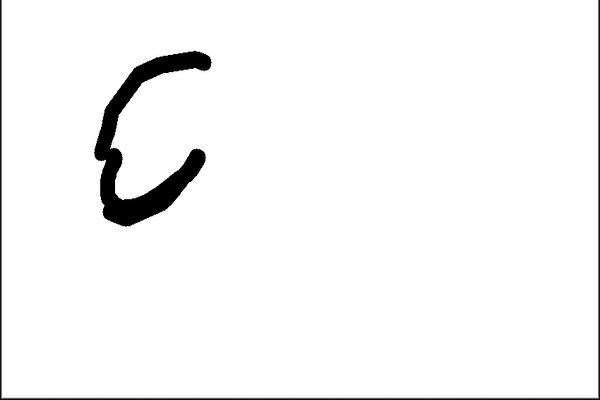C: (86, 46, 216, 228)
